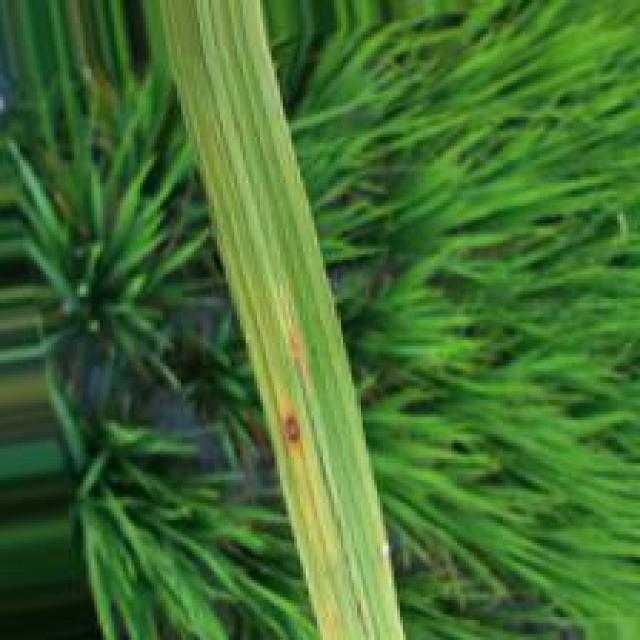Brown_Spot: (286, 412, 302, 447)
